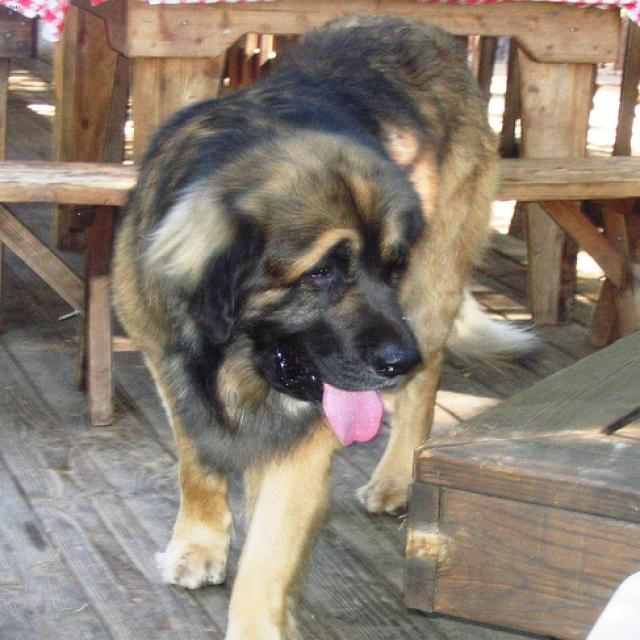dog-leonberger: (97, 1, 555, 637)
